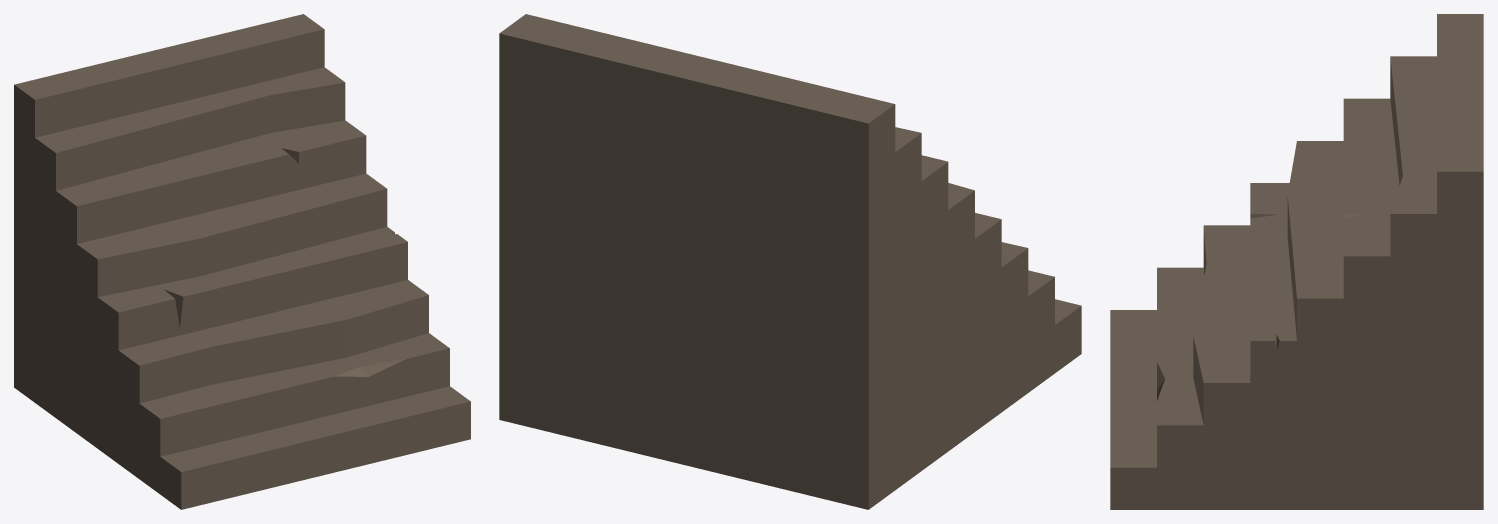
File: stairs.fbx
3 views of the same model, side by side, from view 1: azimuth 30°, elevation 25°; view 2: azimuth 150°, elevation 25°; view 3: azimuth 270°, elevation 25° (orthographic). The views are drawn at different scales.
Visible parts, largest first — view 1: LowPolyStairs; view 2: LowPolyStairs; view 3: LowPolyStairs.
Part boxes in pixels (x1=…): LowPolyStairs: x1=14, y1=14, x2=470, y2=509; LowPolyStairs: x1=499, y1=14, x2=1081, y2=509; LowPolyStairs: x1=1110, y1=14, x2=1483, y2=509.
Bounding box in the file's own units: 200 × 200 × 200.
